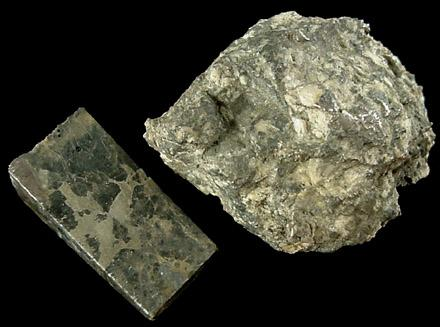silver: (143, 12, 434, 255), (7, 108, 216, 321)
